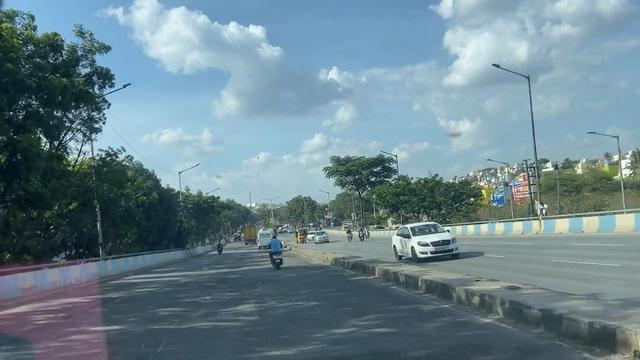LMV: (263, 223, 284, 273)
RoadDamages: (133, 289, 230, 360)
